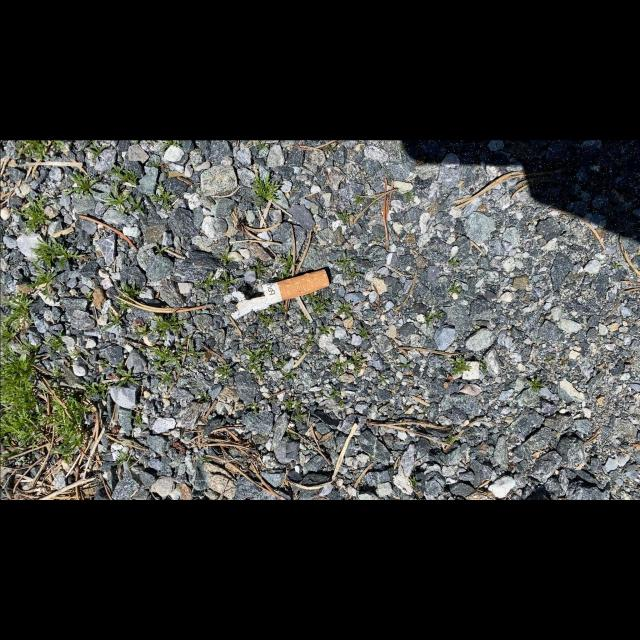cigarette: (230, 268, 329, 320)
